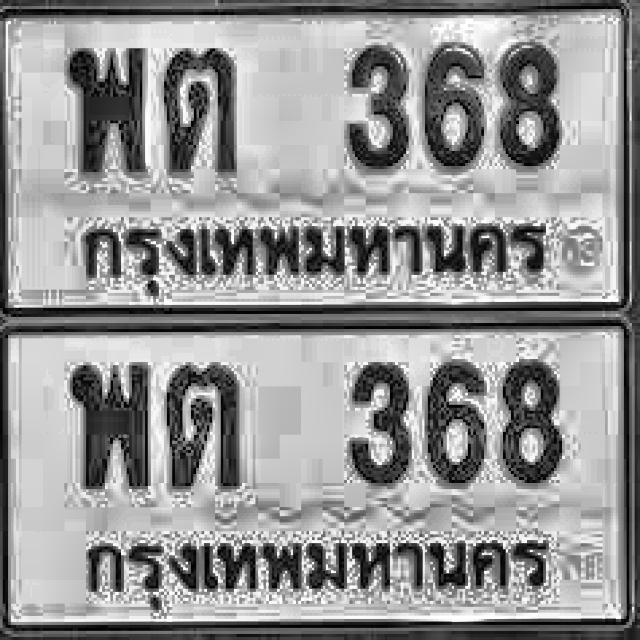license-plate: (0, 321, 640, 640), (0, 0, 640, 312)
